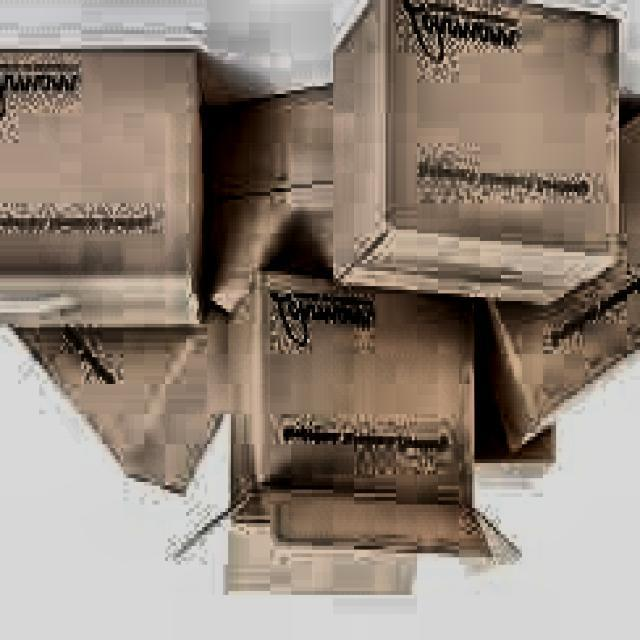cardboard: (330, 0, 622, 309), (475, 102, 640, 456), (0, 48, 205, 332)
